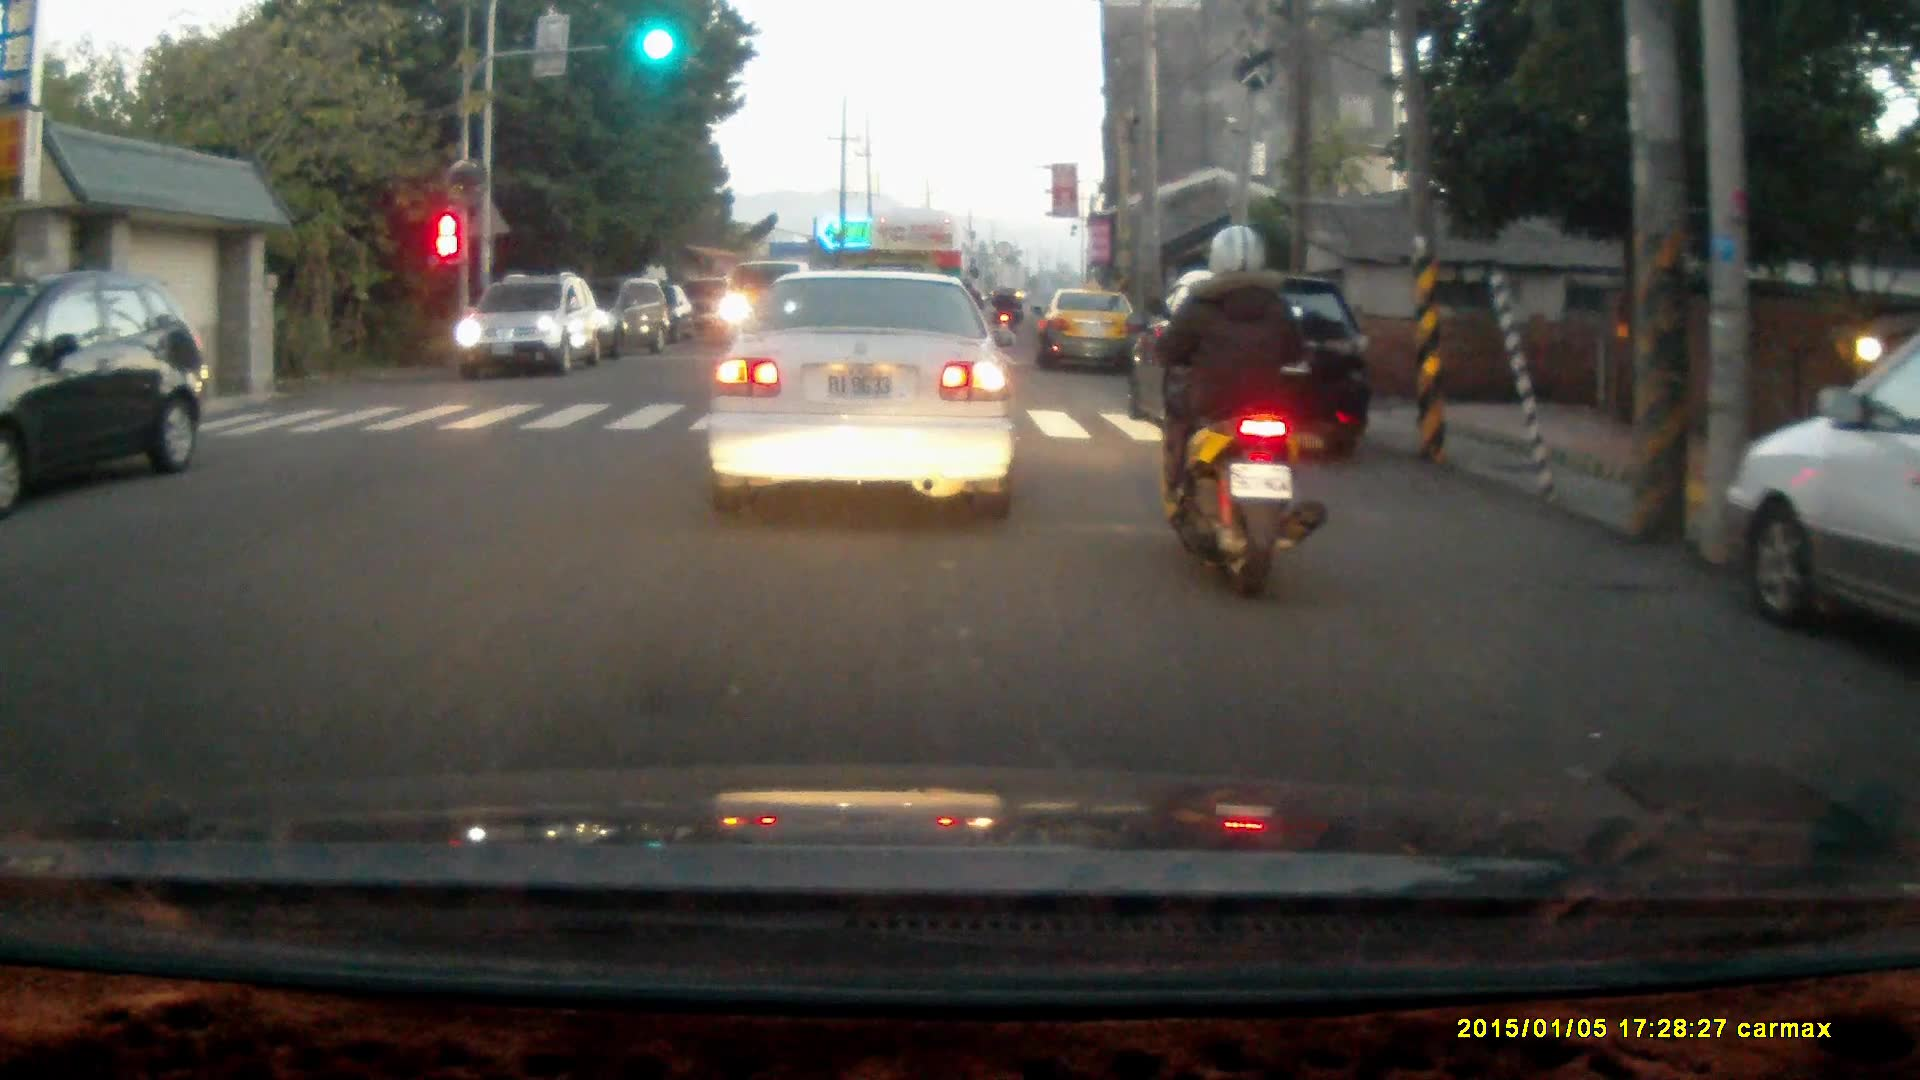rider: (1142, 222, 1331, 603)
vehicle: (700, 266, 1021, 524), (1724, 329, 1920, 645), (1, 272, 210, 504), (1121, 277, 1376, 463), (870, 210, 973, 358), (457, 280, 601, 385), (554, 278, 675, 366), (1036, 288, 1142, 377)
